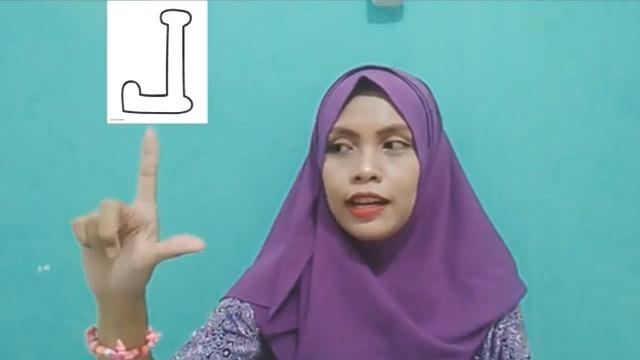L: (72, 127, 212, 304)
